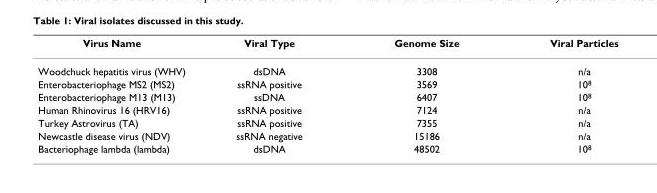table: (37, 36, 617, 154)
table column: (37, 36, 210, 154), (347, 36, 503, 154), (210, 36, 347, 154), (503, 36, 617, 154)
table column header: (37, 36, 617, 56)
table row: (37, 56, 617, 77), (37, 36, 617, 56), (37, 77, 617, 90), (37, 90, 617, 103), (37, 115, 617, 128), (37, 128, 617, 141), (37, 141, 617, 154), (37, 103, 617, 115)
